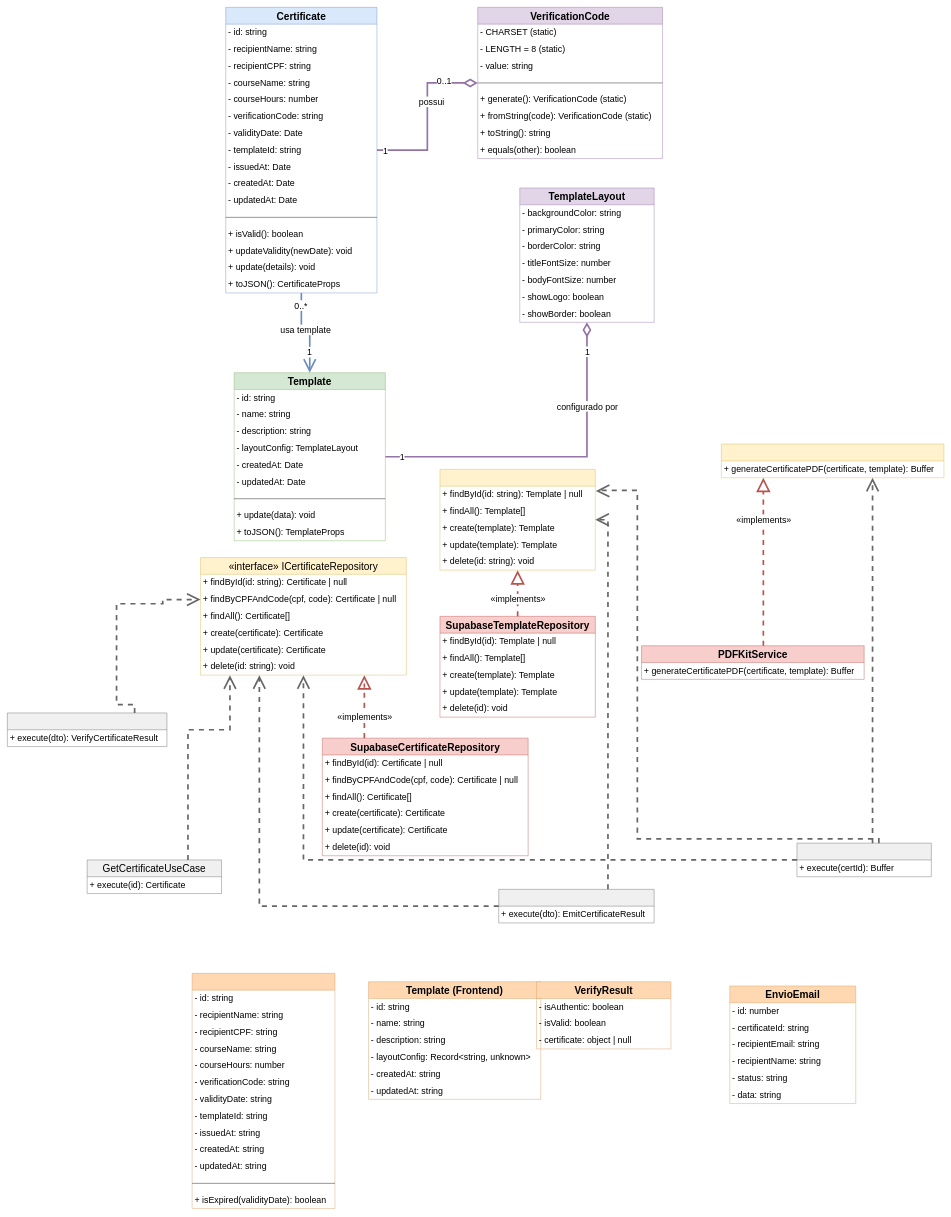
Some shapes in this 951 by 1217 pixel diagram are drawn without their labels. The shapes that lost their labels are listed below. From the top down, each one's box as (x1, y1, x2, y2) in pixels, then its label:
(721, 444, 944, 478): «interface» IPDFService
(440, 469, 595, 570): «interface» ITemplateRepository
(7, 713, 167, 747): VerifyCertificateUseCase
(797, 843, 931, 877): GeneratePDFUseCase
(498, 889, 654, 923): EmitCertificateUseCase
(192, 973, 335, 1209): Certificate (Frontend)
